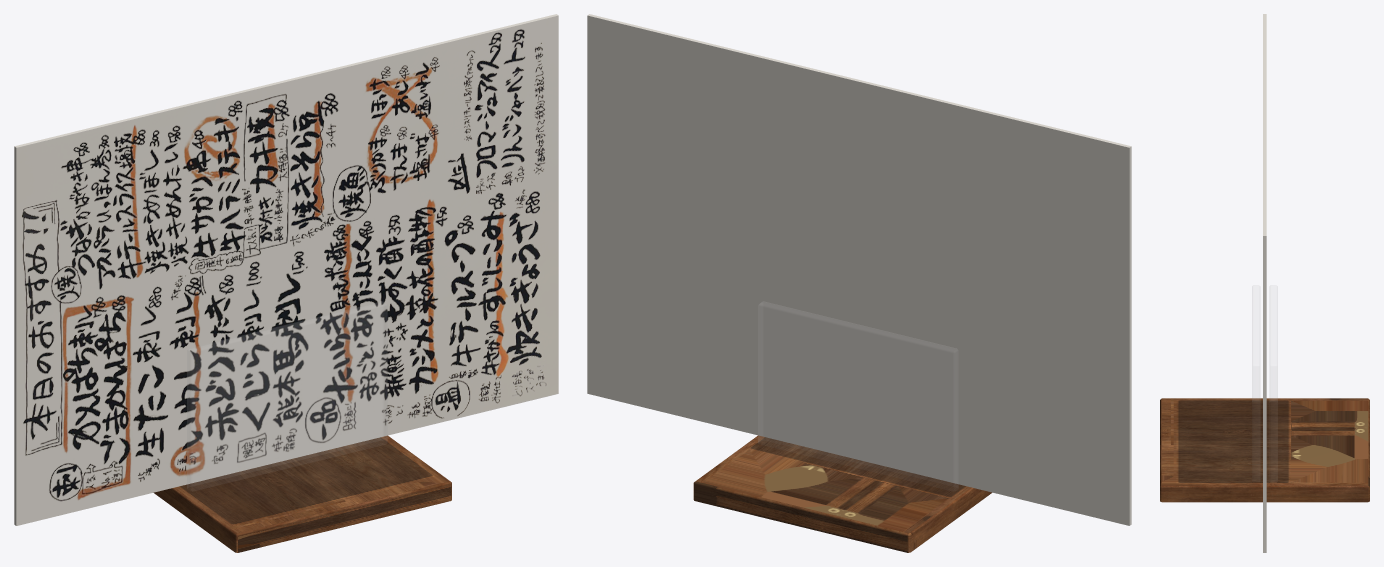
File: MenuStand_01.FBX
The picture shows the model from 3 angles, left to right: view 1: azimuth 30°, elevation 25°; view 2: azimuth 150°, elevation 25°; view 3: azimuth 270°, elevation 25°; orthographic projection. The views are drawn at different scales.
Visible parts, largest first — view 1: MenuStand_01; view 2: MenuStand_01; view 3: MenuStand_01.
Boxes of the visible parts, x1,y1,x2,y2 form: MenuStand_01: (14,14,558,552); MenuStand_01: (587,14,1131,552); MenuStand_01: (1160,14,1369,552).
Size of the model in its own units: 30 by 21.11 by 12.
